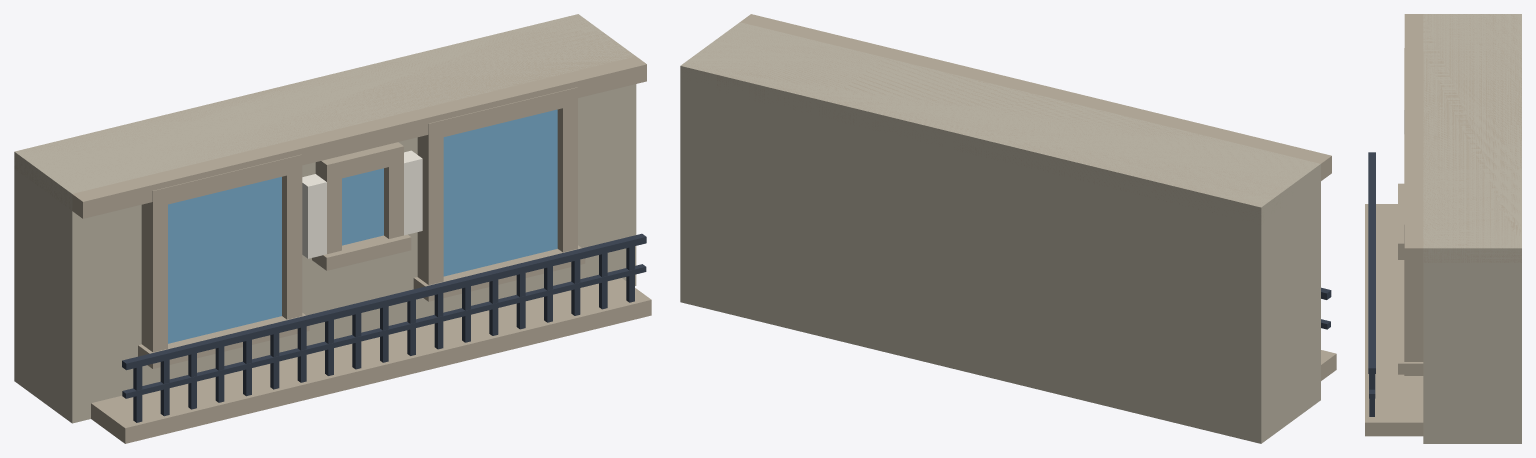
The model's file is cittaCremaPianoB.glb.
3 renders of one model, left to right at view 1: azimuth 30°, elevation 25°; view 2: azimuth 150°, elevation 25°; view 3: azimuth 270°, elevation 25°, orthographic. The views are drawn at different scales.
Parts seen in each view (by area): view 1: cittaCremaPianoB_cittaCrema, cittaCremaPianoB_stone, cittaCremaPianoB_glass, cittaCremaPianoB_steelDark, cittaCremaPianoB_white; view 2: cittaCremaPianoB_cittaCrema, cittaCremaPianoB_stone; view 3: cittaCremaPianoB_cittaCrema, cittaCremaPianoB_stone, cittaCremaPianoB_steelDark.
Part boxes in pixels (x1,y1,x2,y2): cittaCremaPianoB_cittaCrema: (14, 14, 636, 423); cittaCremaPianoB_stone: (14, 14, 651, 443); cittaCremaPianoB_glass: (168, 109, 557, 343); cittaCremaPianoB_steelDark: (122, 233, 646, 422); cittaCremaPianoB_white: (302, 150, 422, 258); cittaCremaPianoB_cittaCrema: (680, 22, 1320, 443); cittaCremaPianoB_stone: (680, 14, 1336, 380); cittaCremaPianoB_cittaCrema: (1423, 14, 1521, 443); cittaCremaPianoB_stone: (1365, 14, 1521, 436); cittaCremaPianoB_steelDark: (1368, 152, 1375, 416).
Bounding box in the file's own units: 9 × 3.5 × 2.54.
